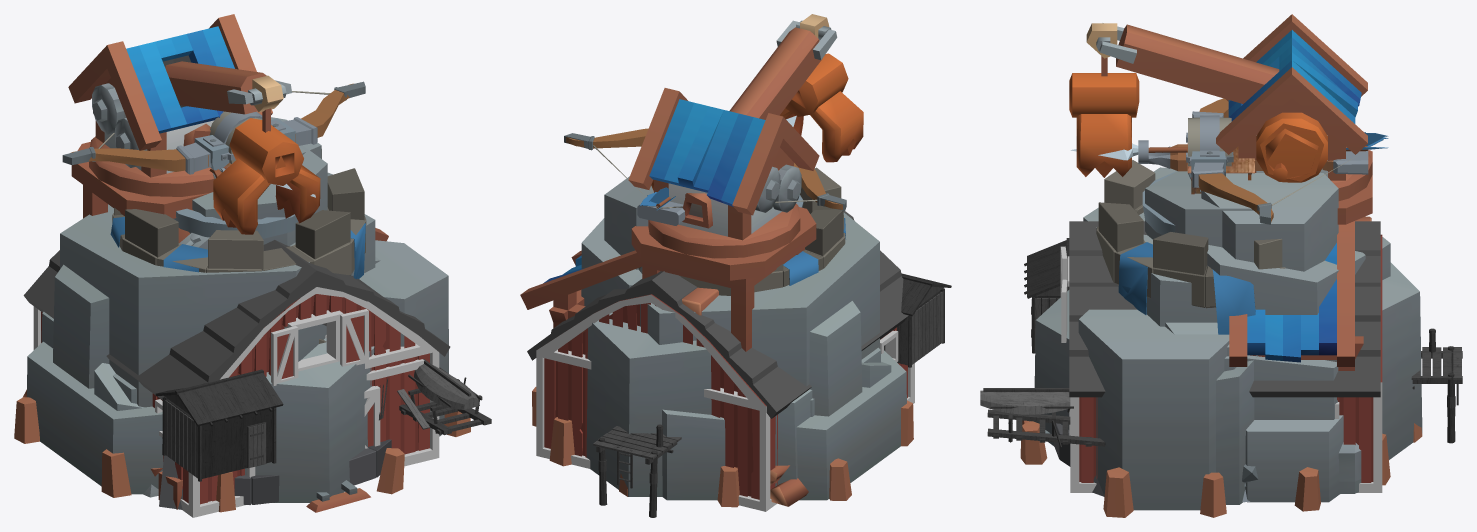
The model's file is kit_ws_p3.glb.
3 views of the same model, side by side, from view 1: azimuth 30°, elevation 25°; view 2: azimuth 150°, elevation 25°; view 3: azimuth 270°, elevation 25° (orthographic). The views are drawn at different scales.
Visible parts, largest first — view 1: mountain_A, building_lumbermill_top_blue, Barn, ws_jetty_n, building_mine_blue, Cube.012_stone-1-5_0, trees_A_cut, building_lumbermill_blue, Plane_wood-2_0, Cube.011_stone-1-4_0, Cube.012_stone-1-4_0, Cylinder.004_metall-2_0 (+14 smaller); view 2: building_lumbermill_top_blue, mountain_A, Barn, building_mine_blue, building_lumbermill_blue, ws_jetty_n, mountain_B, trees_A_cut, Plane_wood-2_0, Cube.012_stone-1-5_0, Cube.004_metall-3_0, Plane.010_feather_0 (+4 smaller); view 3: mountain_A, building_lumbermill_top_blue, building_mine_blue, Barn, mountain_B, building_lumbermill_blue, ws_jetty_n, trees_A_cut, Cube.012_stone-1-5_0, Cube.012_stone-1-4_0, Plane.007_feather_0, Plane.008_feather_0 (+11 smaller).
Boxes of the visible parts, <box> form: mountain_A: <box>27,145,448,502</box>; building_lumbermill_top_blue: <box>68,14,320,234</box>; Barn: <box>23,240,450,517</box>; ws_jetty_n: <box>155,359,491,481</box>; building_mine_blue: <box>41,257,380,512</box>; Cube.012_stone-1-5_0: <box>125,168,364,259</box>; trees_A_cut: <box>14,397,470,512</box>; building_lumbermill_blue: <box>22,142,388,397</box>; Plane_wood-2_0: <box>71,83,353,171</box>; Cube.011_stone-1-4_0: <box>112,213,366,275</box>; Cube.012_stone-1-4_0: <box>114,149,321,269</box>; Cylinder.004_metall-2_0: <box>173,208,315,238</box>; building_lumbermill_top_blue: <box>628,14,863,258</box>; mountain_A: <box>640,212,906,500</box>; Barn: <box>527,211,919,511</box>; building_mine_blue: <box>586,267,891,496</box>; building_lumbermill_blue: <box>520,207,816,506</box>; ws_jetty_n: <box>593,273,951,517</box>; mountain_B: <box>581,176,880,416</box>; trees_A_cut: <box>532,387,913,507</box>; Plane_wood-2_0: <box>566,128,842,209</box>; Cube.012_stone-1-5_0: <box>805,209,843,255</box>; Cube.004_metall-3_0: <box>637,201,685,225</box>; Plane.010_feather_0: <box>783,251,818,285</box>; mountain_A: <box>1034,167,1390,510</box>; building_lumbermill_top_blue: <box>1069,14,1372,200</box>; building_mine_blue: <box>1022,262,1422,504</box>; Barn: <box>1067,221,1382,492</box>; mountain_B: <box>1201,173,1365,371</box>; building_lumbermill_blue: <box>1229,150,1372,493</box>; ws_jetty_n: <box>980,238,1462,447</box>; trees_A_cut: <box>1020,421,1422,517</box>; Cube.012_stone-1-5_0: <box>1098,202,1208,275</box>; Cube.012_stone-1-4_0: <box>1104,160,1282,269</box>; Plane.007_feather_0: <box>1212,269,1255,334</box>; Plane.008_feather_0: <box>1118,242,1152,314</box>.
Size of the model in its own units: 14.81 by 16.13 by 18.
Materials: 124 (80 with a texture image).
